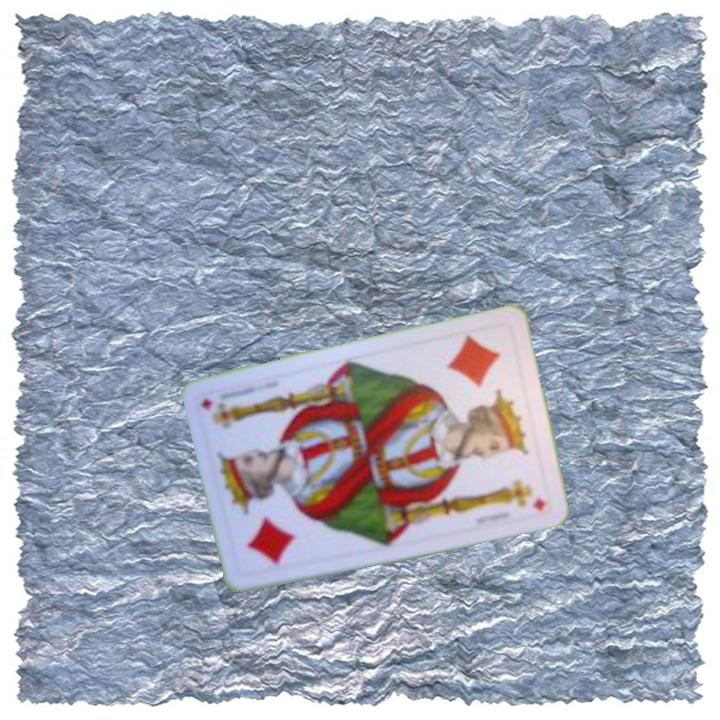d_k.png: (219, 465, 324, 580), (428, 321, 533, 436)
